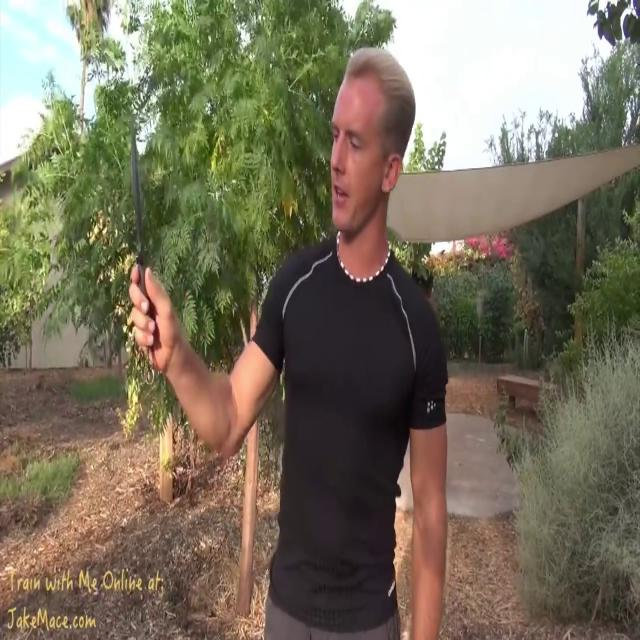knife: (120, 102, 165, 371)
